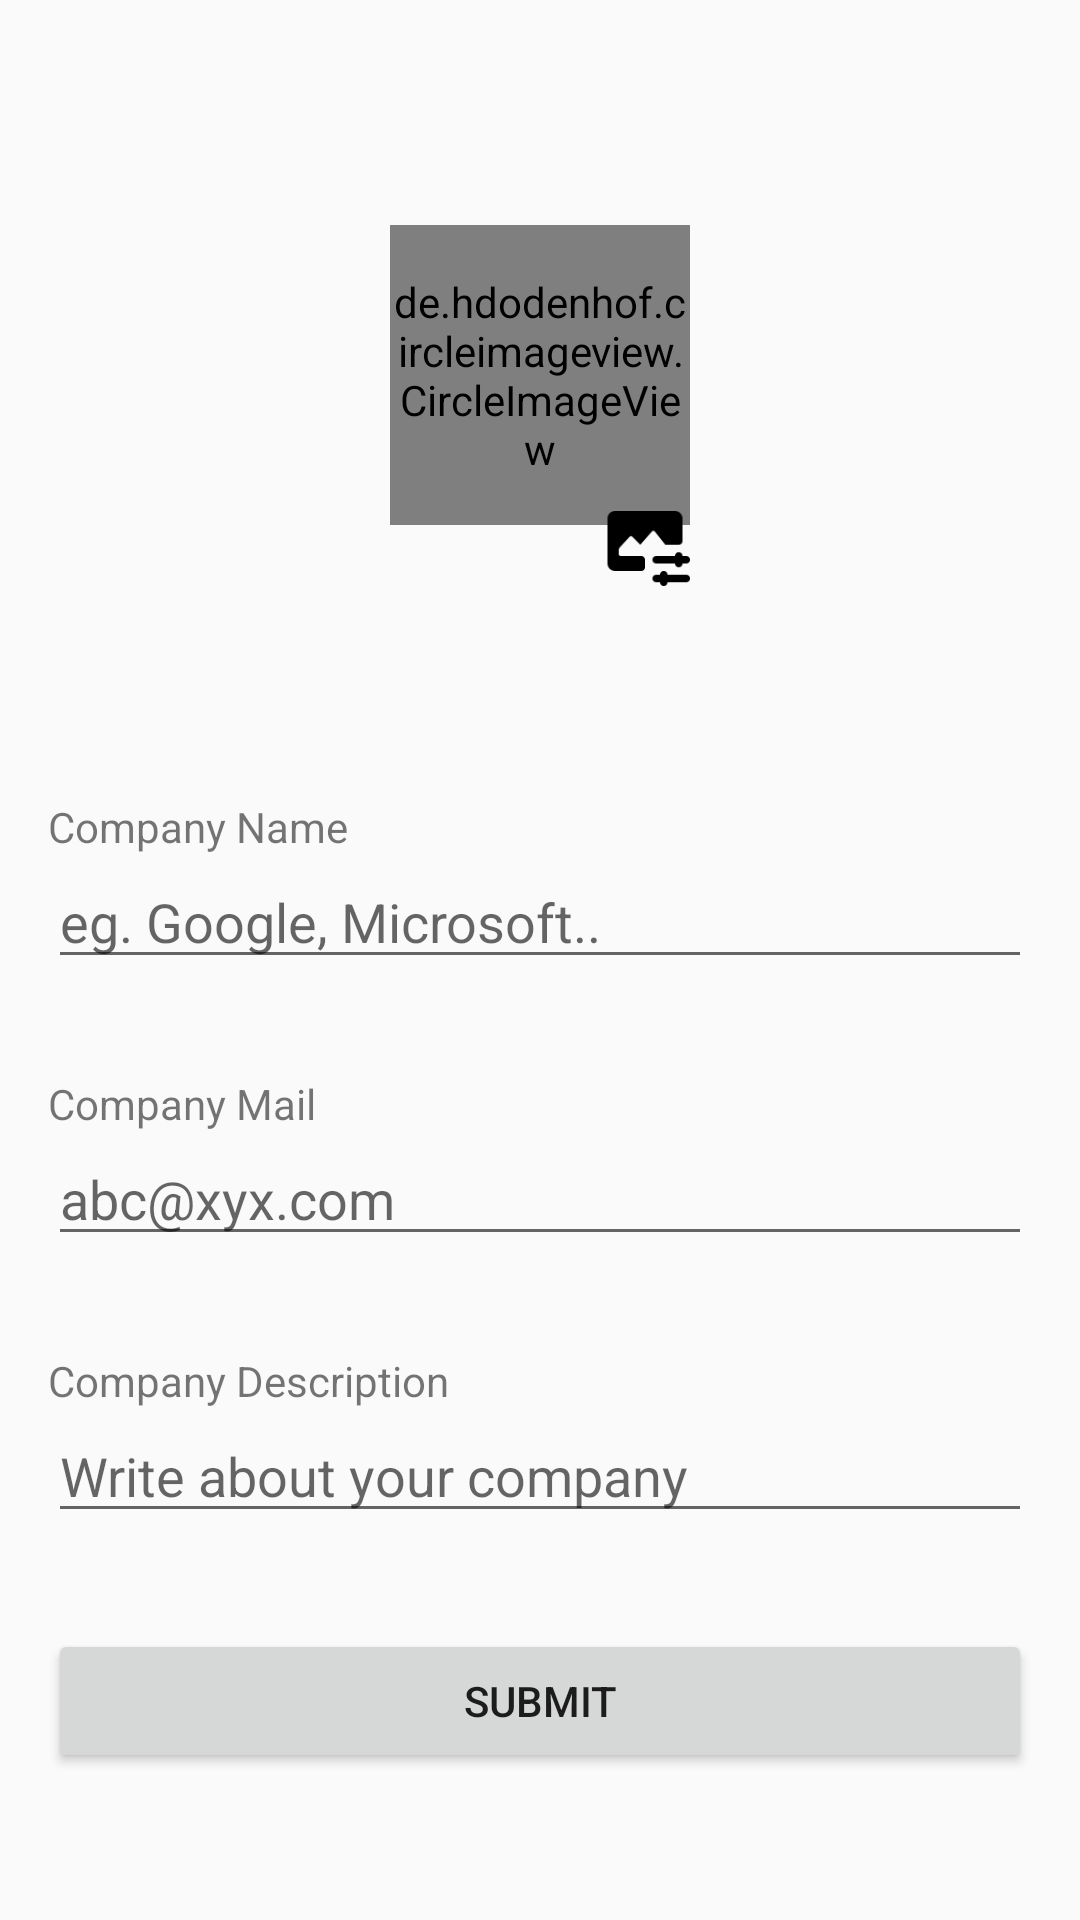

Point at icon controls on the screen. Image size 1080px×1920px, points as (x,y).
edit: (645,541)
